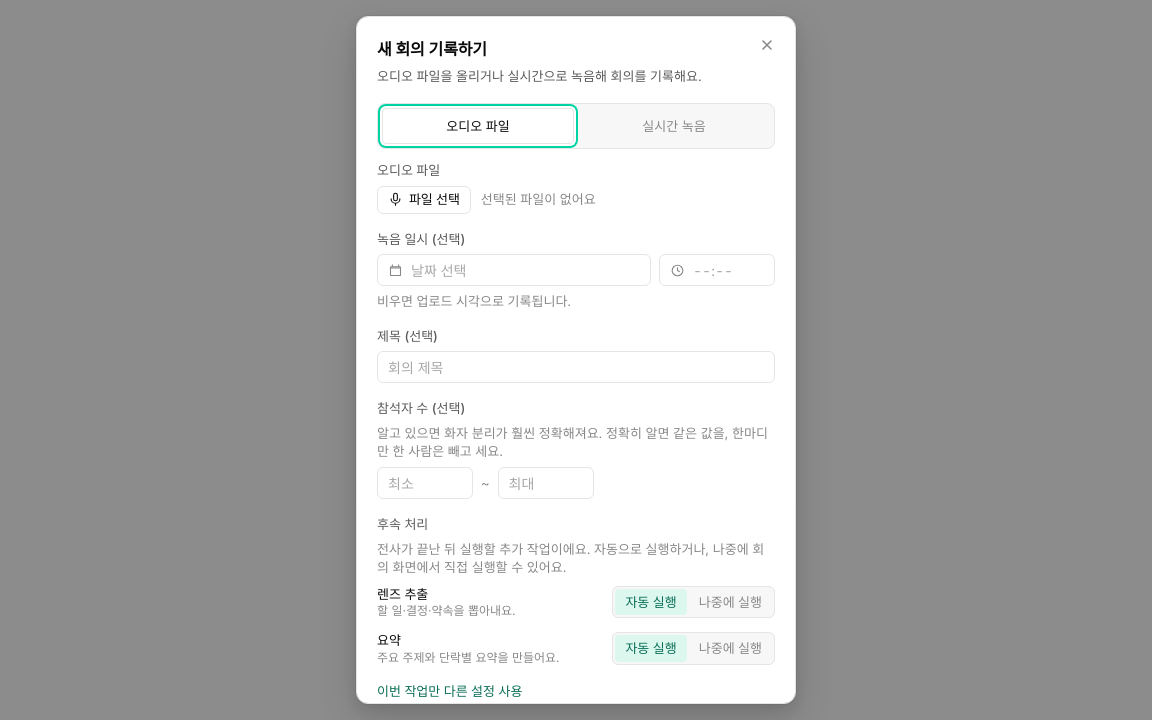
it: live 탭을 열면 클릭 없이 권한을 요청하고 마이크 목록을 보여준다
Press the mouse on the tab "실시간 녹음" at {"x": 674, "y": 126}, box [578,108,770,144]
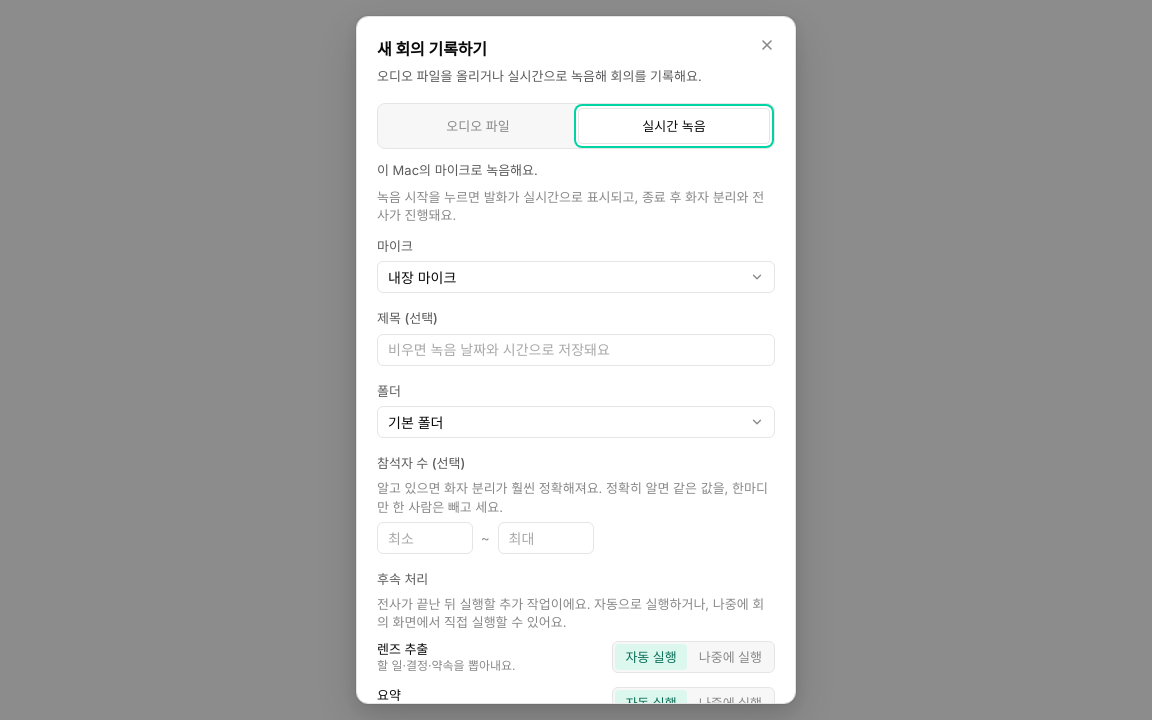
expect the dropdown labelled "마이크" reads "내장 마이크": met, box [377,261,775,293]
